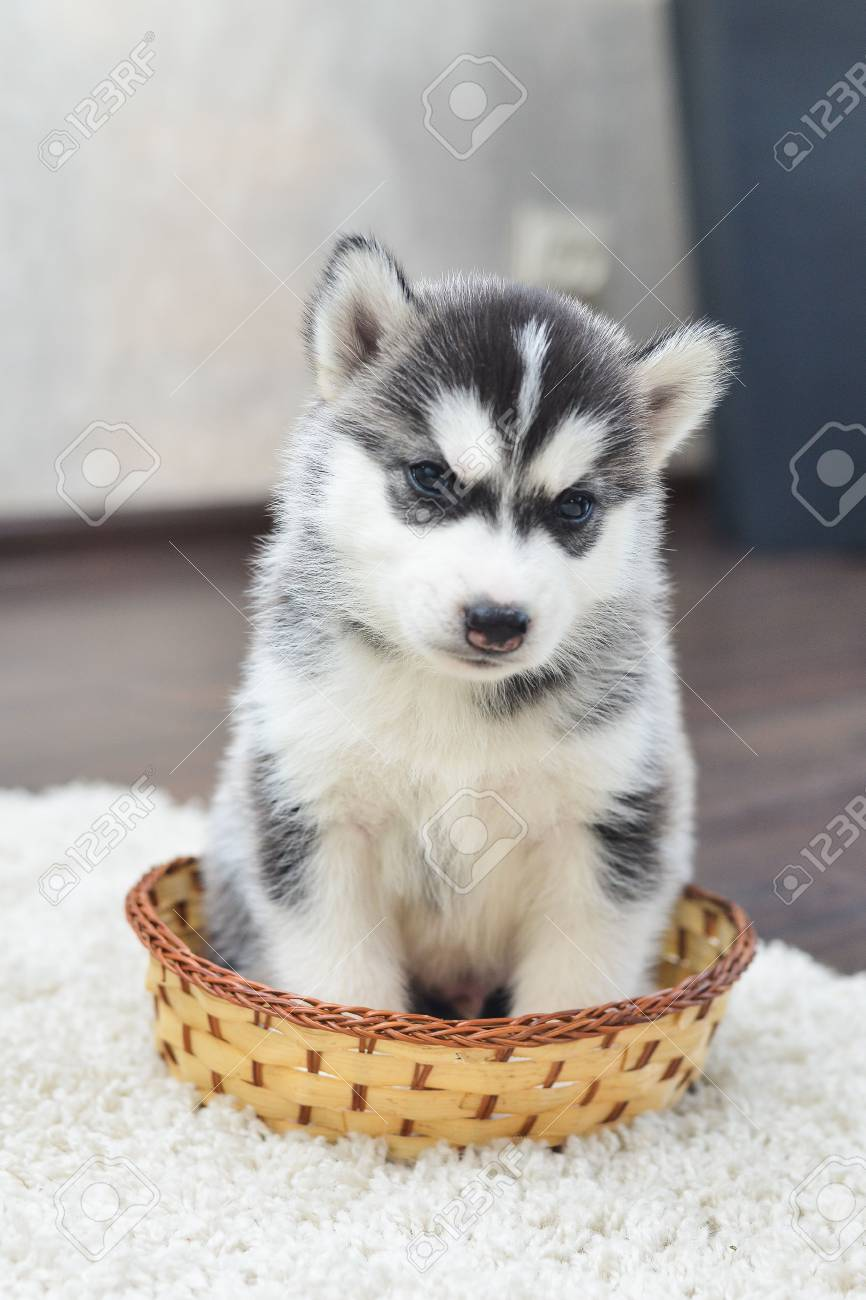husky: (166, 224, 794, 1130)
